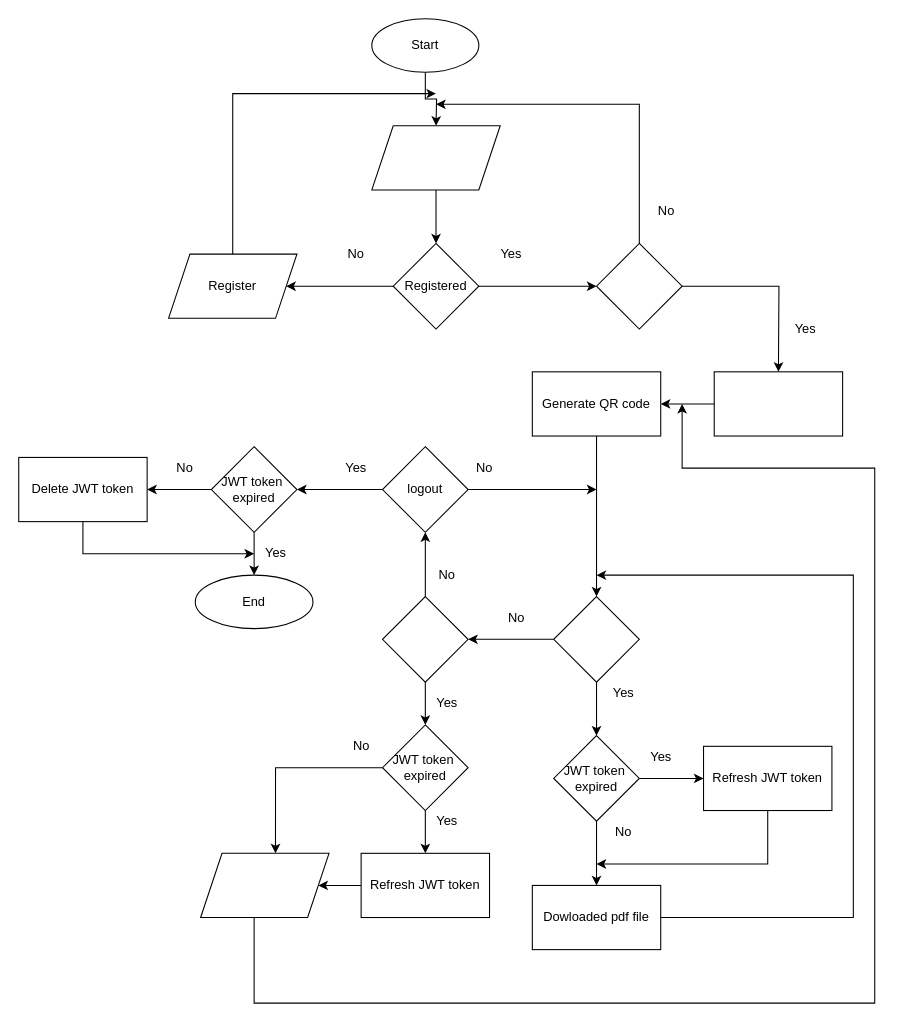
Image size: 902x1030. Some labels were removed from this diagram. The shapes that lost their labels are listed below. From the top down, each one's centre as x and y in pixels, then its label:
the point at 435,157: Log in
the point at 638,285: Correct credentials
the point at 778,403: Generate JWT token
the point at 424,638: Update QR code
the point at 596,638: Download
the point at 264,885: Fill out
